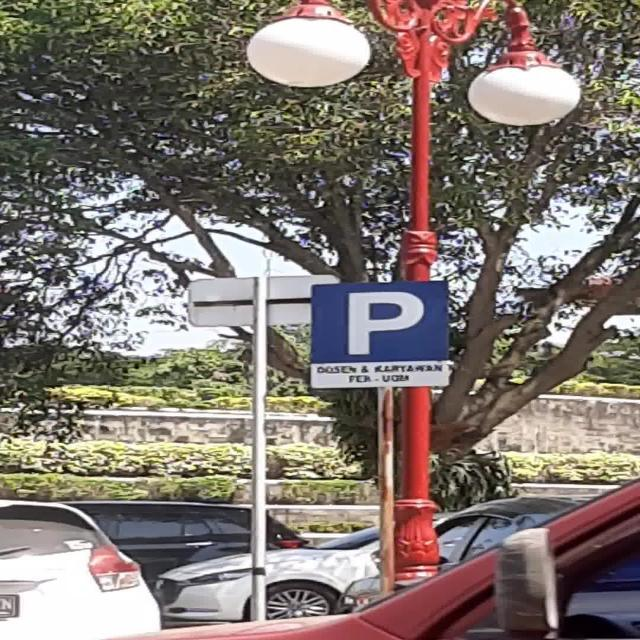Tempat Parkir: (308, 281, 451, 388)
